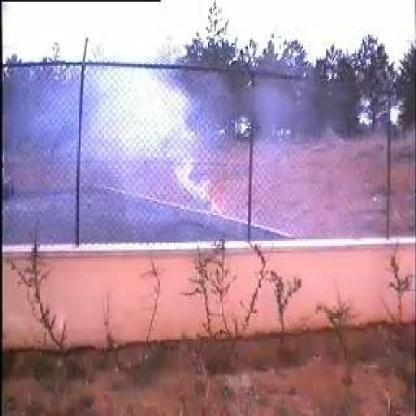-: (50, 62, 240, 236)
